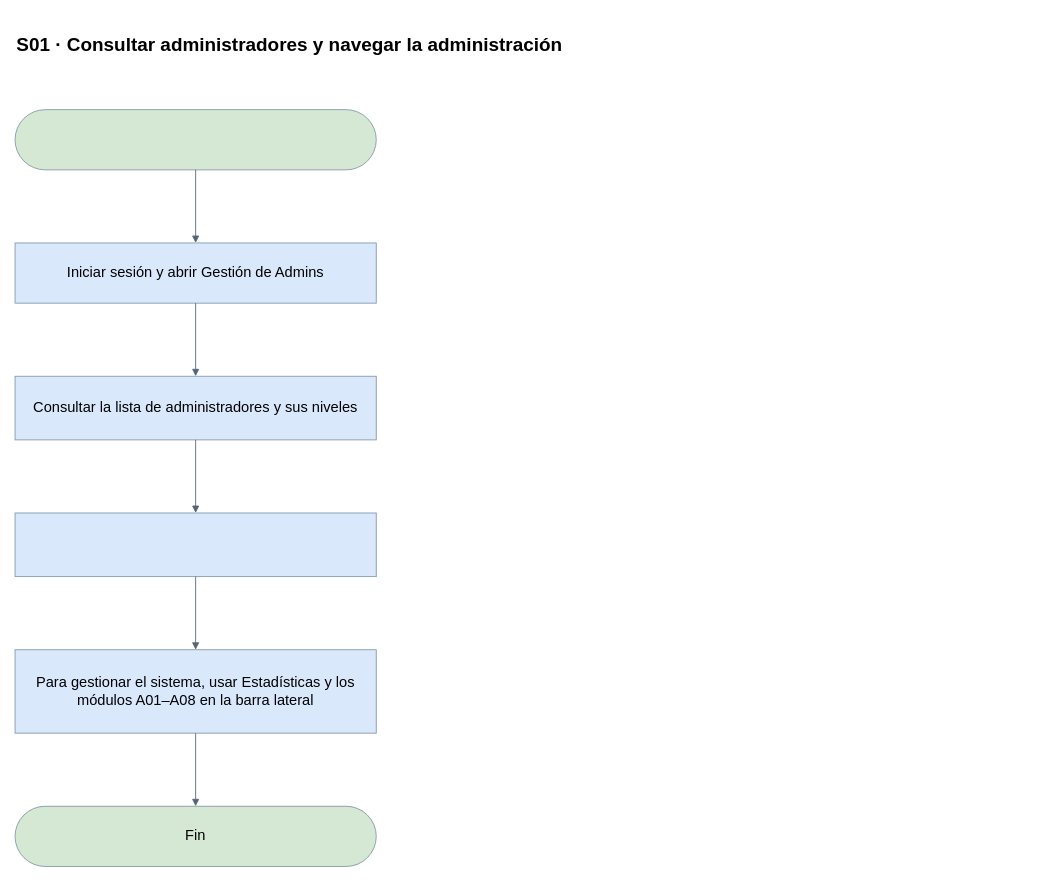
The diagram is 1045 pixels wide and 882 high, and some of its shapes have lost their labels. Here are the shapes that lost their labels. From the top down, the centre of each, then its label:
pixel 195 139: Inicio
pixel 195 544: Elegir crear administrador S02 o retirar permisos S03
